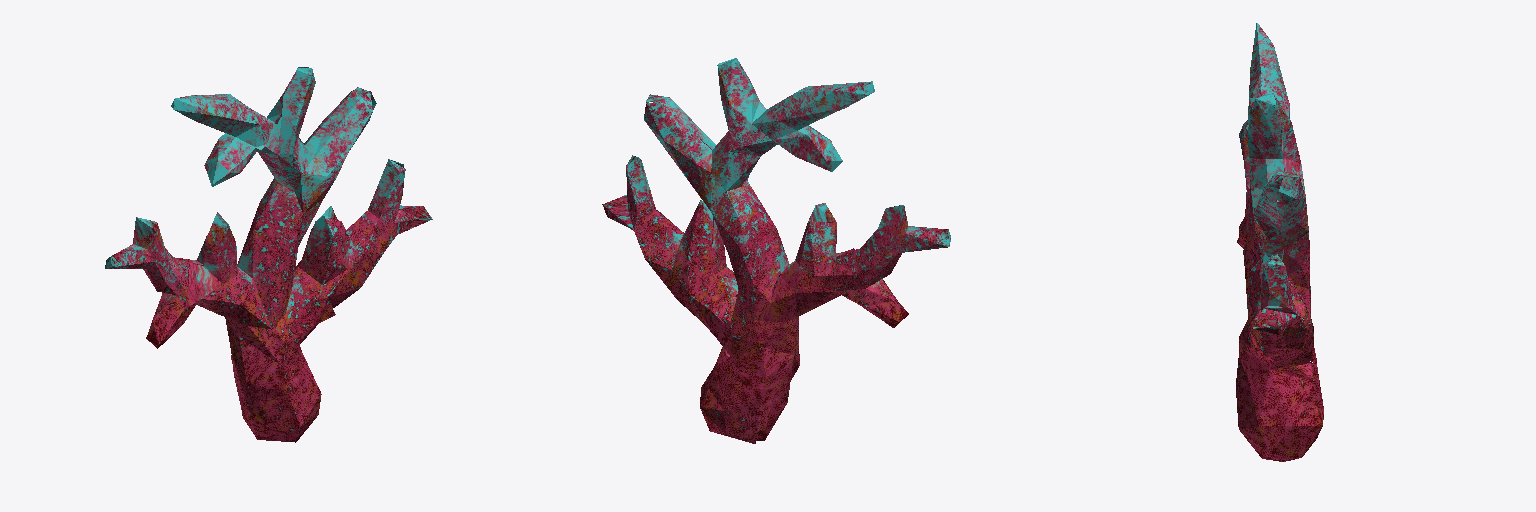
3 renders of one model, left to right at view 1: azimuth 30°, elevation 25°; view 2: azimuth 150°, elevation 25°; view 3: azimuth 270°, elevation 25°, orthographic.
Parts seen in each view (by area): view 1: Coral_Low:Group43241_meshId0_name; view 2: Coral_Low:Group43241_meshId0_name; view 3: Coral_Low:Group43241_meshId0_name.
Part boxes in pixels (bbox=[...]): Coral_Low:Group43241_meshId0_name: bbox=[105, 67, 432, 442]; Coral_Low:Group43241_meshId0_name: bbox=[602, 58, 950, 443]; Coral_Low:Group43241_meshId0_name: bbox=[1236, 23, 1323, 461].
Size of the model in its own units: 352 by 382 by 81.19.
1 materials, 1 textured.